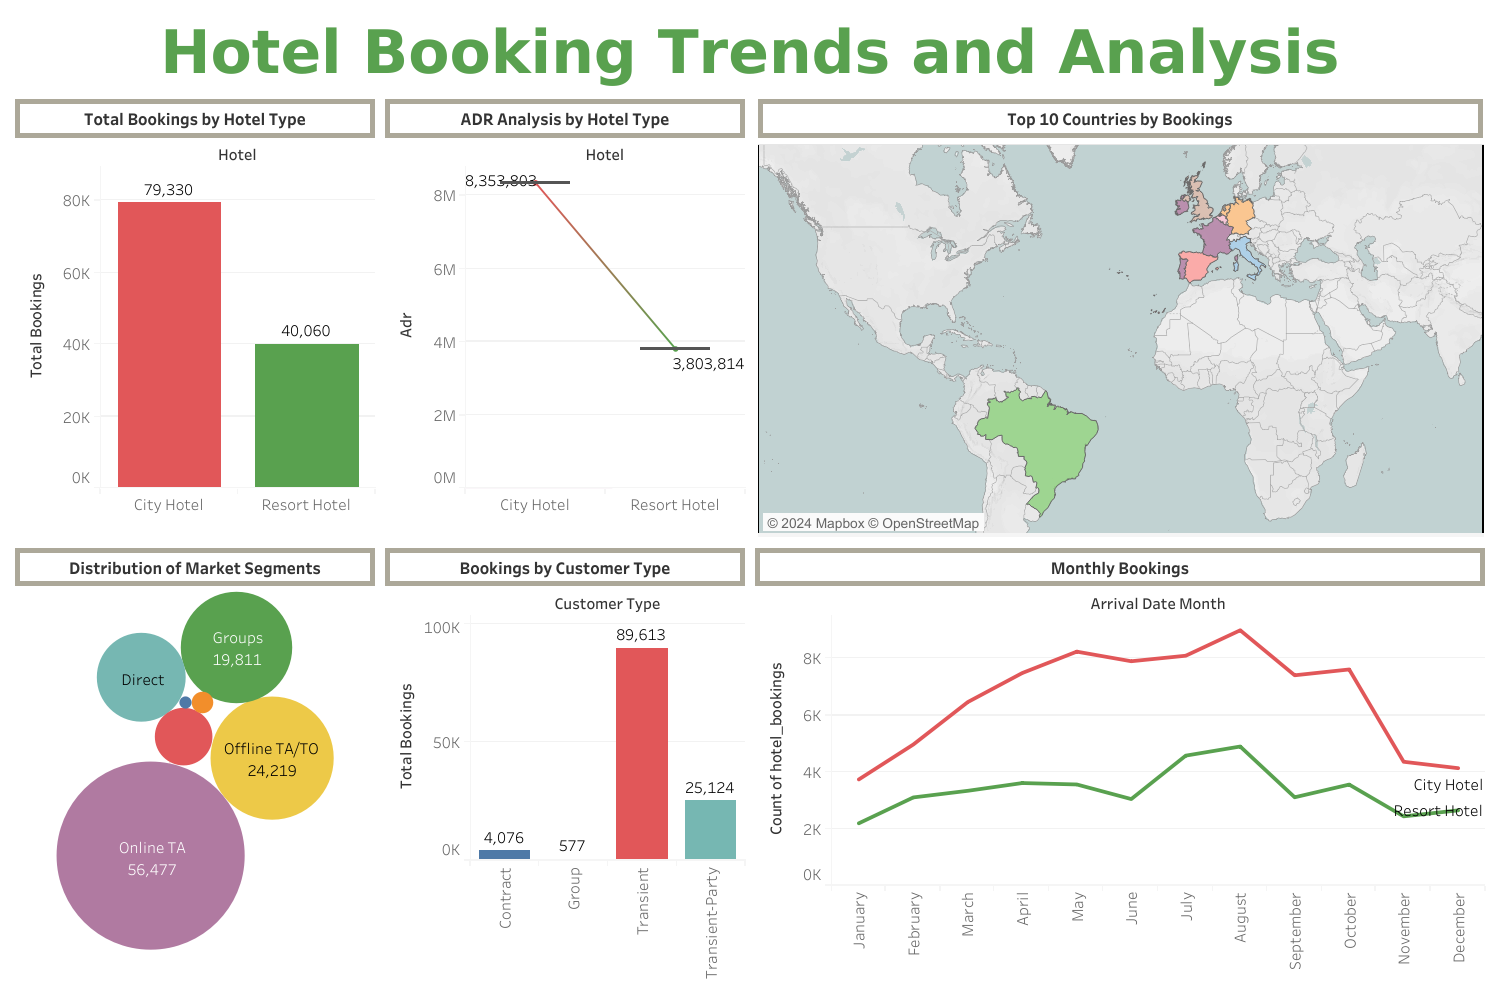

This screenshot's page, from the dashboard's own definition file:
{"tool":"tableau","page":{"name":"Hotel Booking Trends and Analysis Dashboard ","canvas":[1200,800],"ordinal":0},"visuals":[{"type":"text","box":[8,8,1184,67]},{"type":"worksheet","title":"Total Bookings by Hotel Type","mark":"Automatic","rows":["Calculation_335799694137196560"],"cols":["hotel"],"box":[8,75,295.9,358.5]},{"type":"worksheet","title":"ADR Analysis by Hotel Type","mark":"Line","rows":["adr"],"cols":["hotel"],"box":[303.9,75,296.1,358.5]},{"type":"worksheet","title":"Top 10 Countries by Bookings","mark":"Multipolygon","box":[600,75,592,358.5]},{"type":"worksheet","title":"Distribution of Market Segments","mark":"Circle","box":[8,433.5,295.9,358.5]},{"type":"worksheet","title":"Bookings by Customer Type","mark":"Bar","rows":["Calculation_335799694137196560"],"cols":["customer_type"],"box":[303.9,433.5,296.1,358.5]},{"type":"worksheet","title":"Monthly Bookings","mark":"Line","rows":["hotel_bookings_C7917F25D79244CA82E2B75A0F8C02C6"],"cols":["arrival_date_month"],"box":[600,433.5,592,358.5]}]}

Visuals, with their boxes in screenshot pixels (x1, y1, x2, y2), scaled from the page's 1200x800 canvas onto the 1499x999 screenshot:
text: left=10, top=10, right=1489, bottom=94
"Total Bookings by Hotel Type" worksheet: left=10, top=94, right=380, bottom=541
"ADR Analysis by Hotel Type" worksheet (Line marks): left=380, top=94, right=750, bottom=541
"Top 10 Countries by Bookings" worksheet (Multipolygon marks): left=750, top=94, right=1489, bottom=541
"Distribution of Market Segments" worksheet (Circle marks): left=10, top=541, right=380, bottom=989
"Bookings by Customer Type" worksheet (Bar marks): left=380, top=541, right=750, bottom=989
"Monthly Bookings" worksheet (Line marks): left=750, top=541, right=1489, bottom=989
